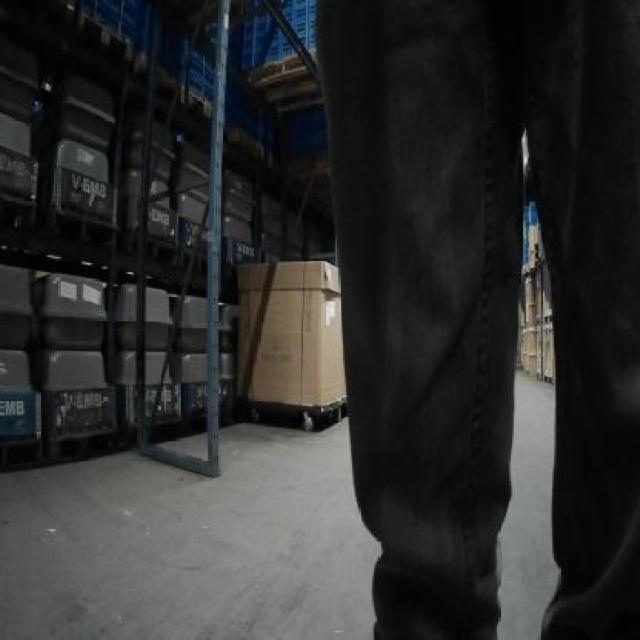pallets: (235, 258, 343, 428)
